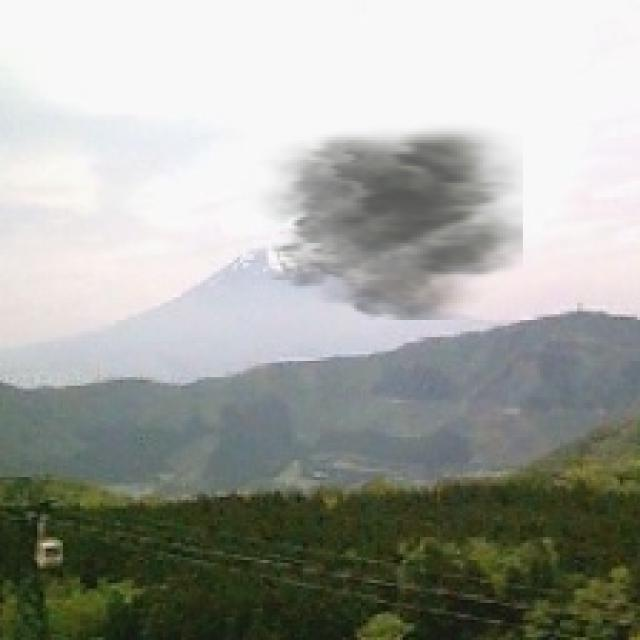smoke: (243, 120, 523, 320)
